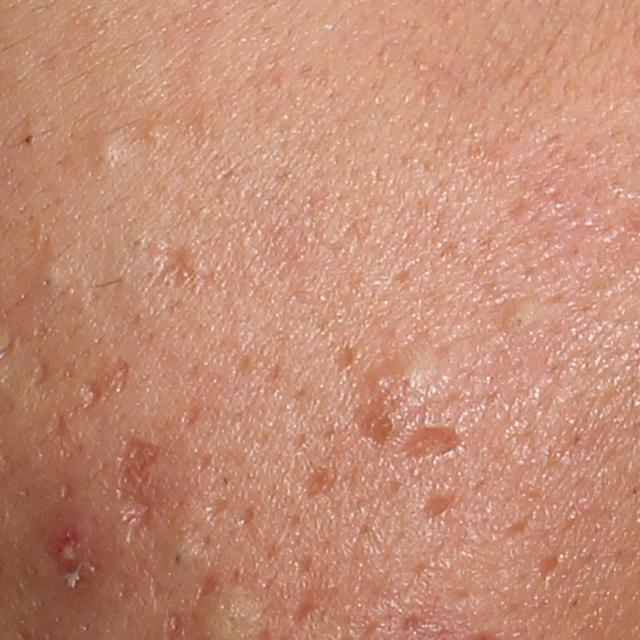atrophic_scar: (115, 436, 165, 544), (442, 522, 501, 608), (110, 540, 170, 608), (76, 354, 133, 415), (145, 236, 196, 294), (345, 400, 398, 454), (402, 424, 465, 468), (294, 584, 336, 636), (297, 463, 337, 501), (421, 491, 459, 519), (535, 551, 563, 584), (326, 343, 356, 372), (180, 402, 200, 429)
comedo: (140, 116, 172, 143)
